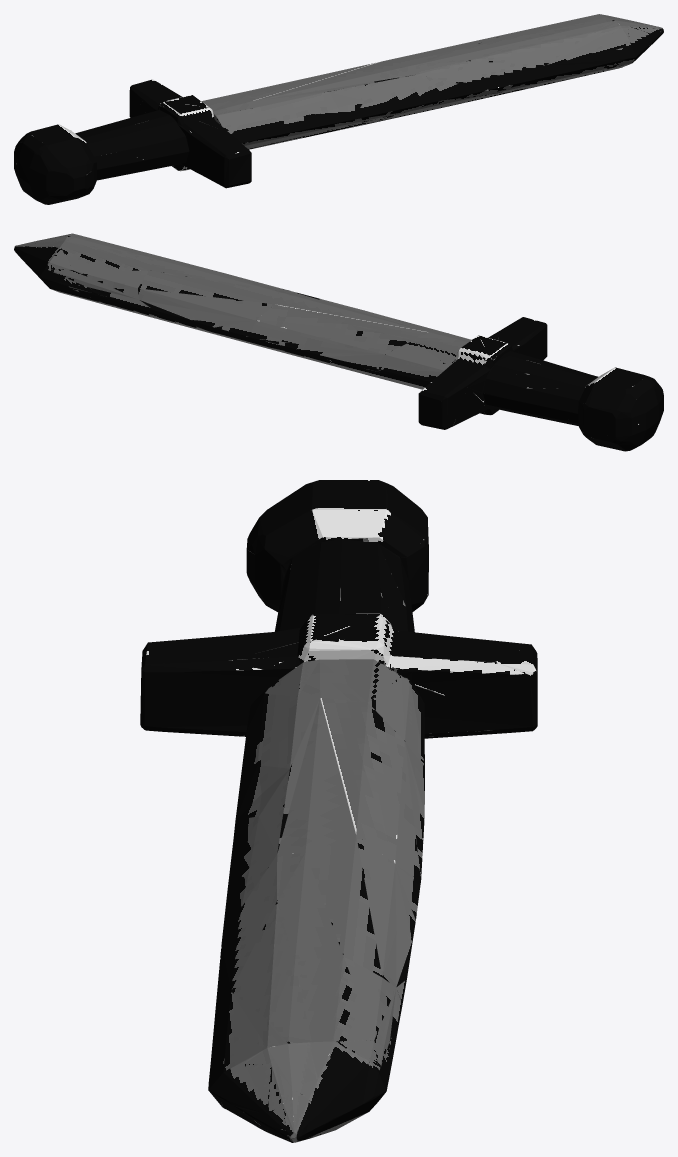
3 renders of one model, top to bottom at view 1: azimuth 30°, elevation 25°; view 2: azimuth 150°, elevation 25°; view 3: azimuth 270°, elevation 25°, orthographic. The views are drawn at different scales.
Parts seen in each view (by area): view 1: OBJ005; view 2: OBJ005; view 3: OBJ005.
Part boxes in pixels (bbox=[...]): OBJ005: bbox=[14, 14, 663, 204]; OBJ005: bbox=[14, 233, 663, 451]; OBJ005: bbox=[140, 480, 537, 1142].
Size of the model in its own units: 0.4443 by 0.0411 by 0.1222.
1 material, 1 textured.
